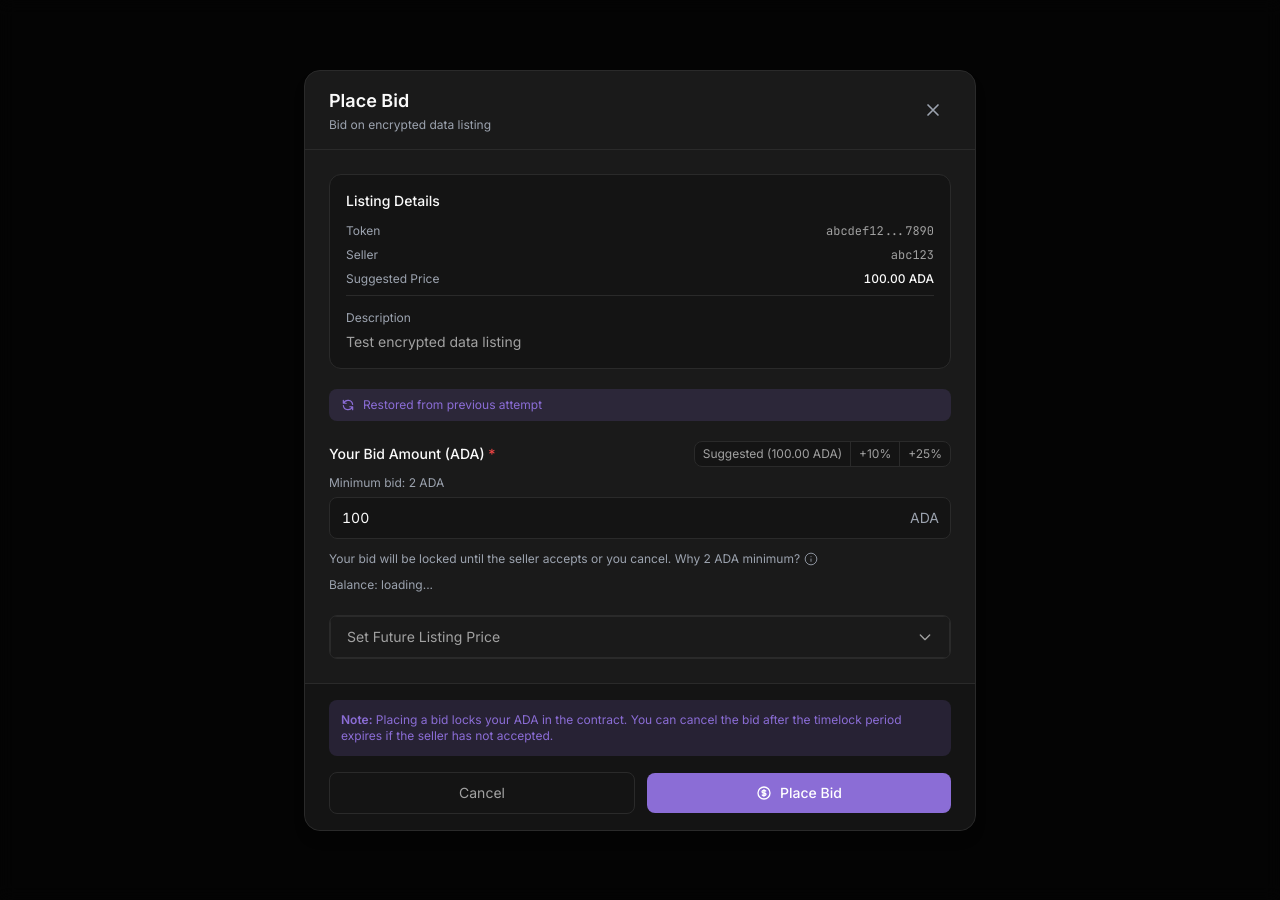
Test: PlaceBidModal › shows fallback error for unrecognized errors
The width and height of the screenshot is (1280, 900).
Click the button "Place Bid". click: x=799, y=792
box: [647,772,951,812]
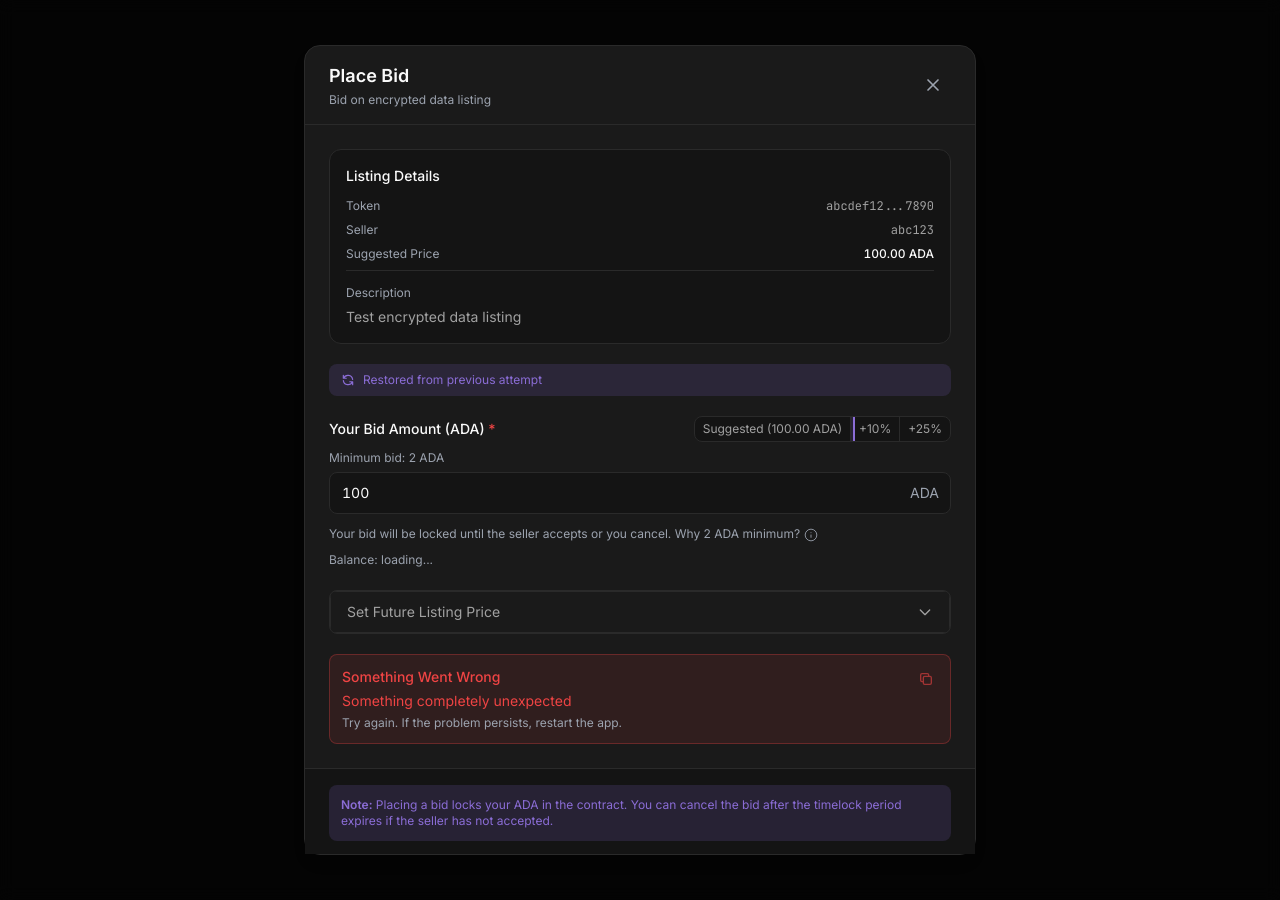
expect the text "Something Went Wrong" is shown: met, box [342,668,500,685]
expect the text "Something completely unexpected" is shown: met, box [342,692,572,709]
